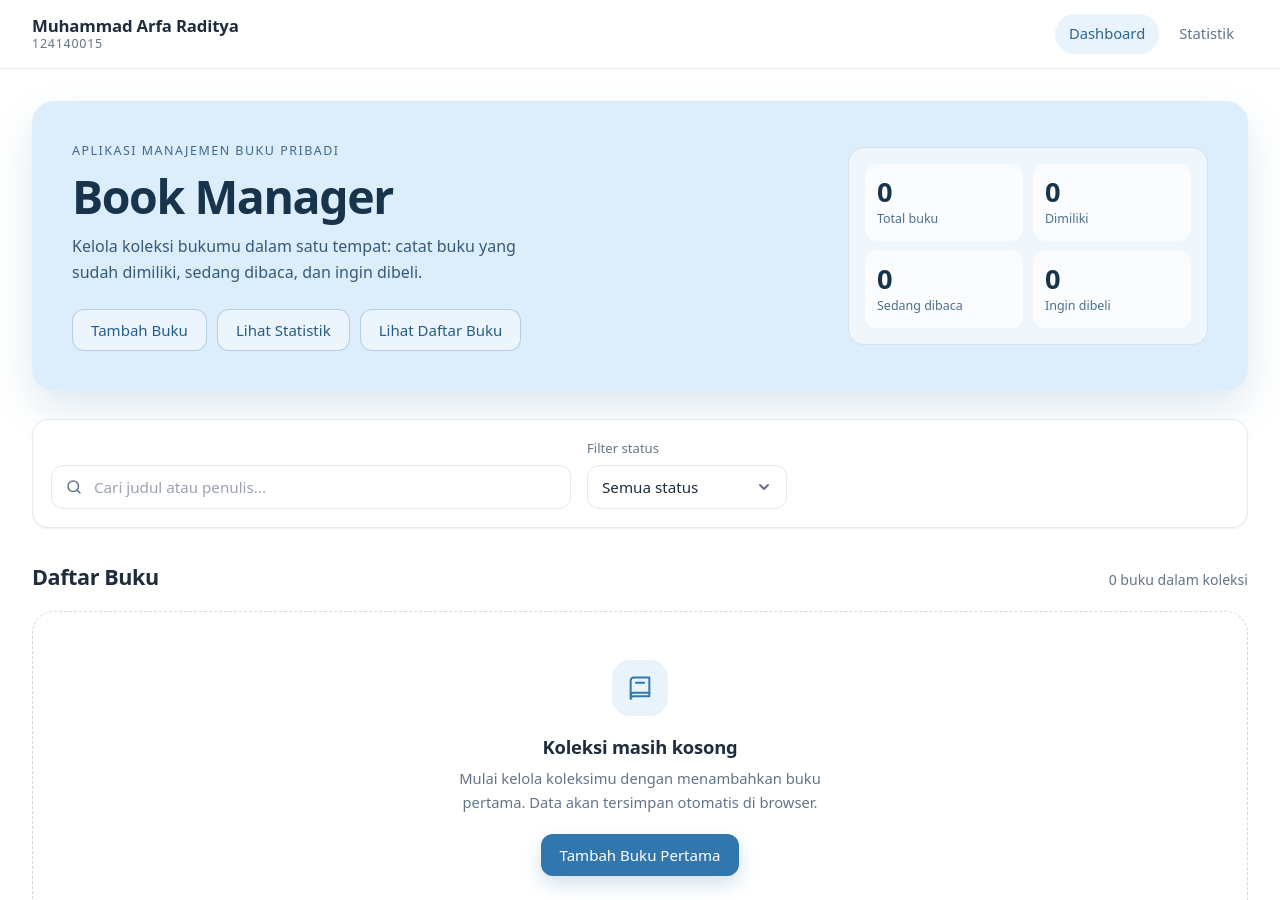
Test case: Dashboard dan manajemen buku › menambahkan buku baru melalui formulir dan menyimpannya ke localStorage
The image size is (1280, 900).
Expected: the heading "Koleksi masih kosong" is shown, [542,732,738,761]
Click the button "Tambah Buku". click: (139, 330)
box: [72,309,207,351]
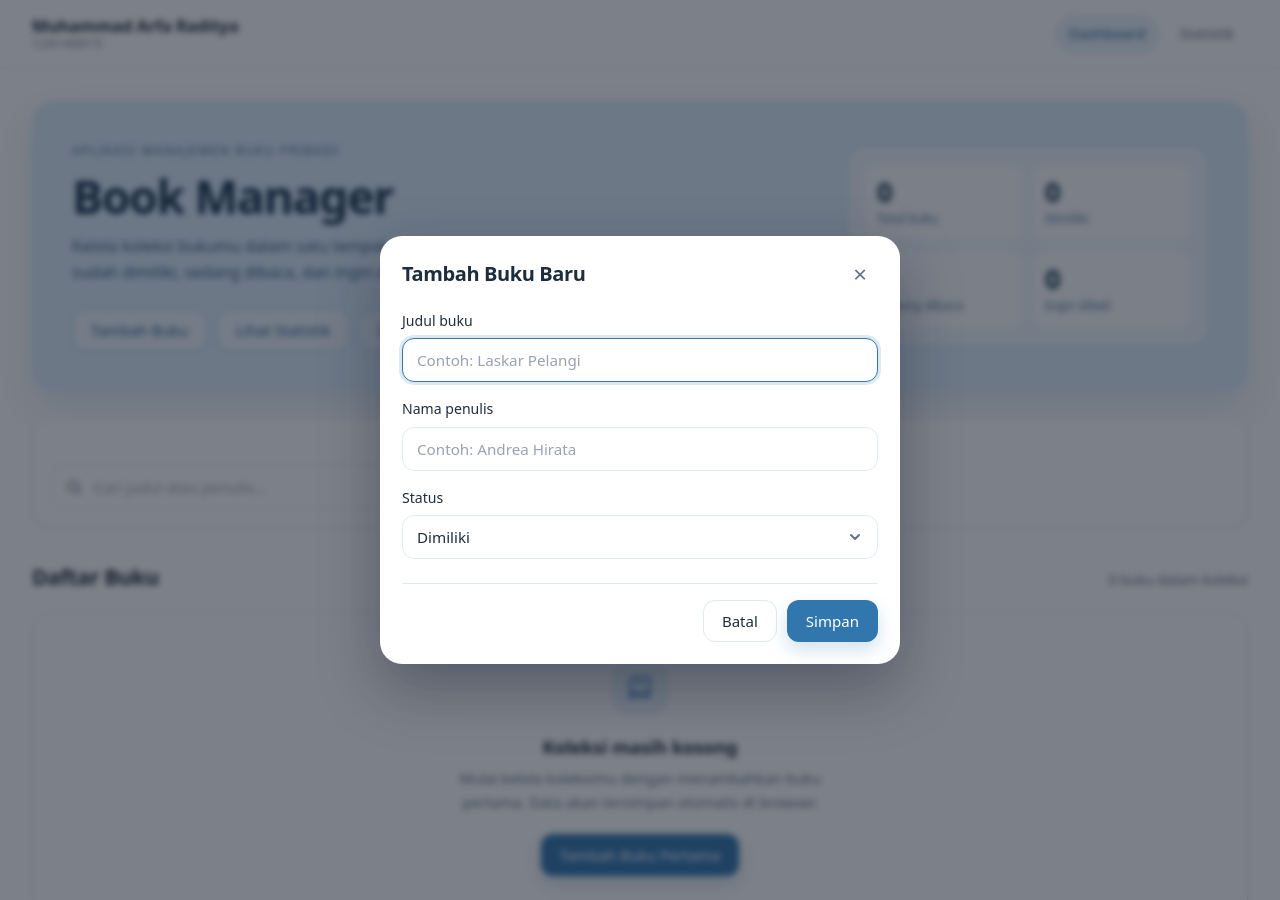
Expected: the dialog is shown, [380,236,900,664]
Type "Laskar Pelangi" into the field labelled "Judul buku". click: (640, 360)
box: [402,338,878,382]
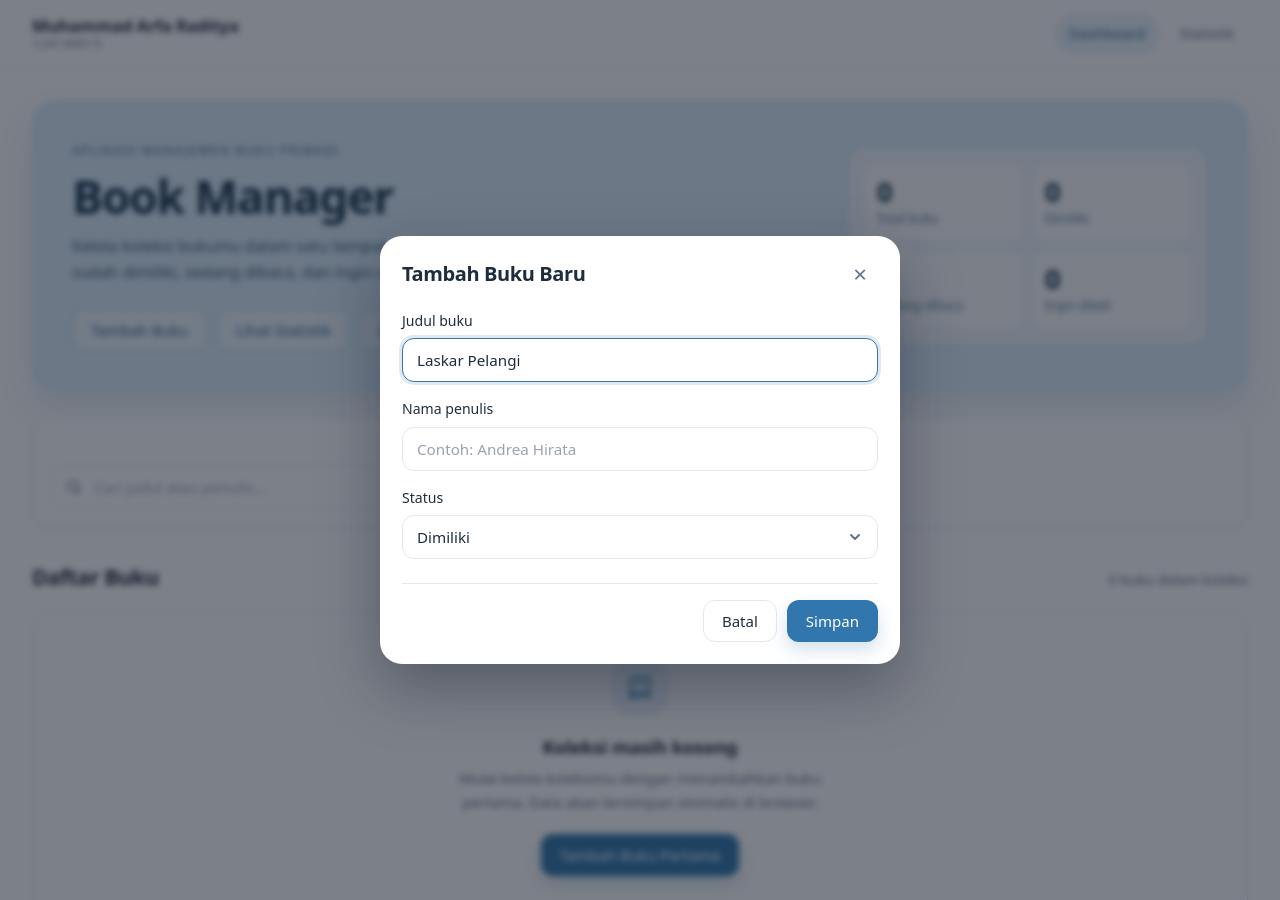
Type "Andrea Hirata" into the field labelled "Nama penulis". click: (640, 449)
box: [402,427,878,471]
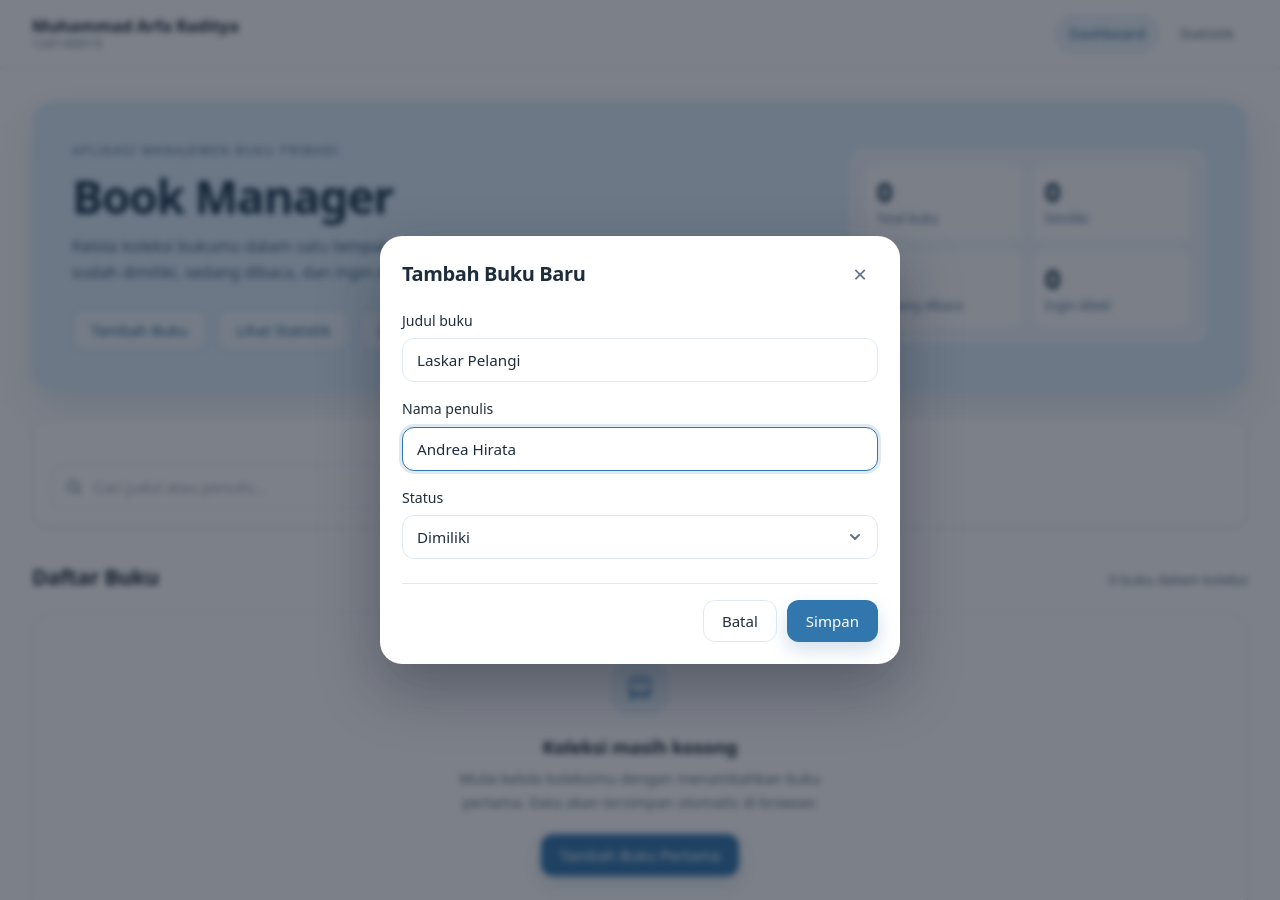
Select "Ingin Dibeli" in the dropdown labelled "Status". click: (640, 537)
box: [402,515,878,559]
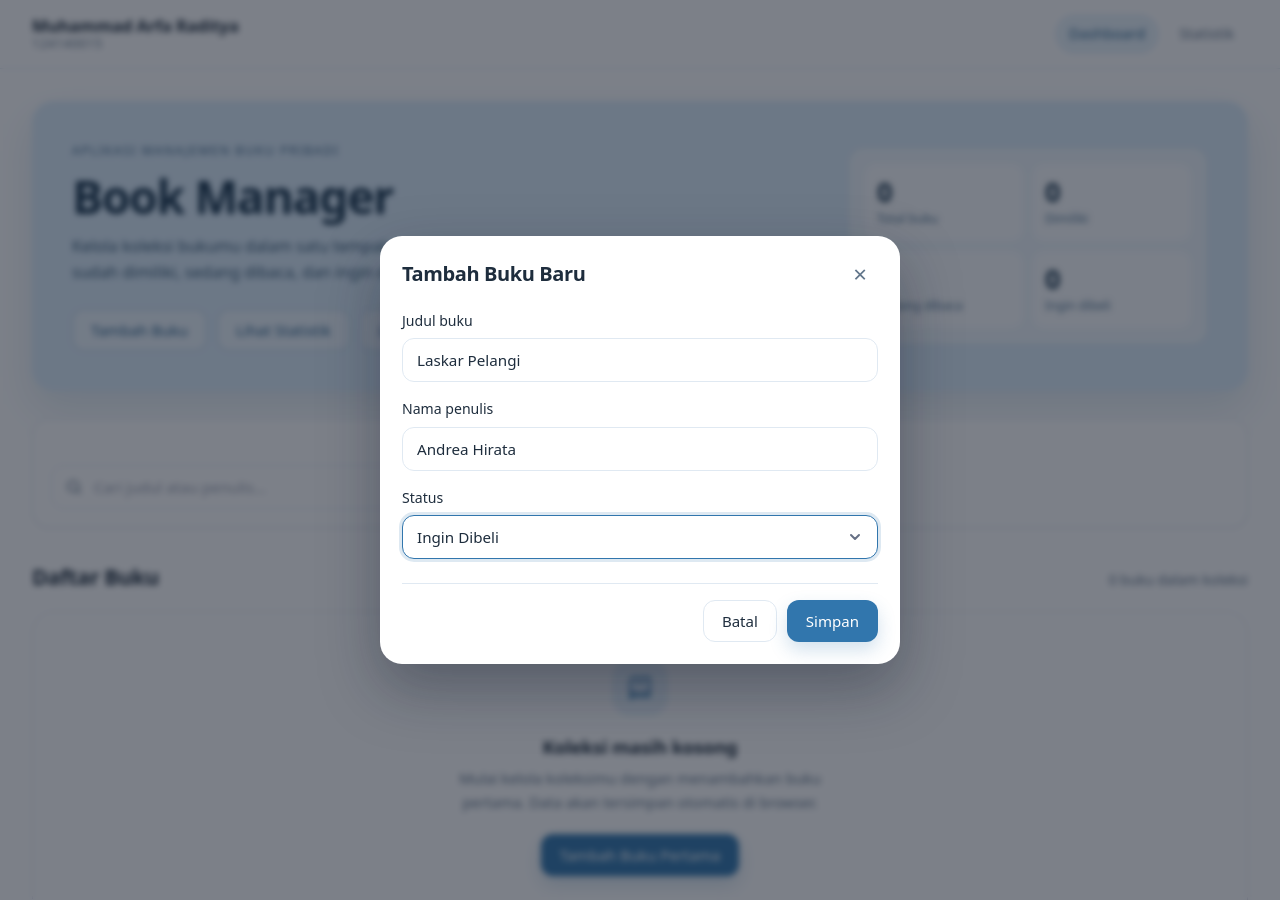
Click the button "Simpan". click: (832, 621)
box: [787,600,878,642]
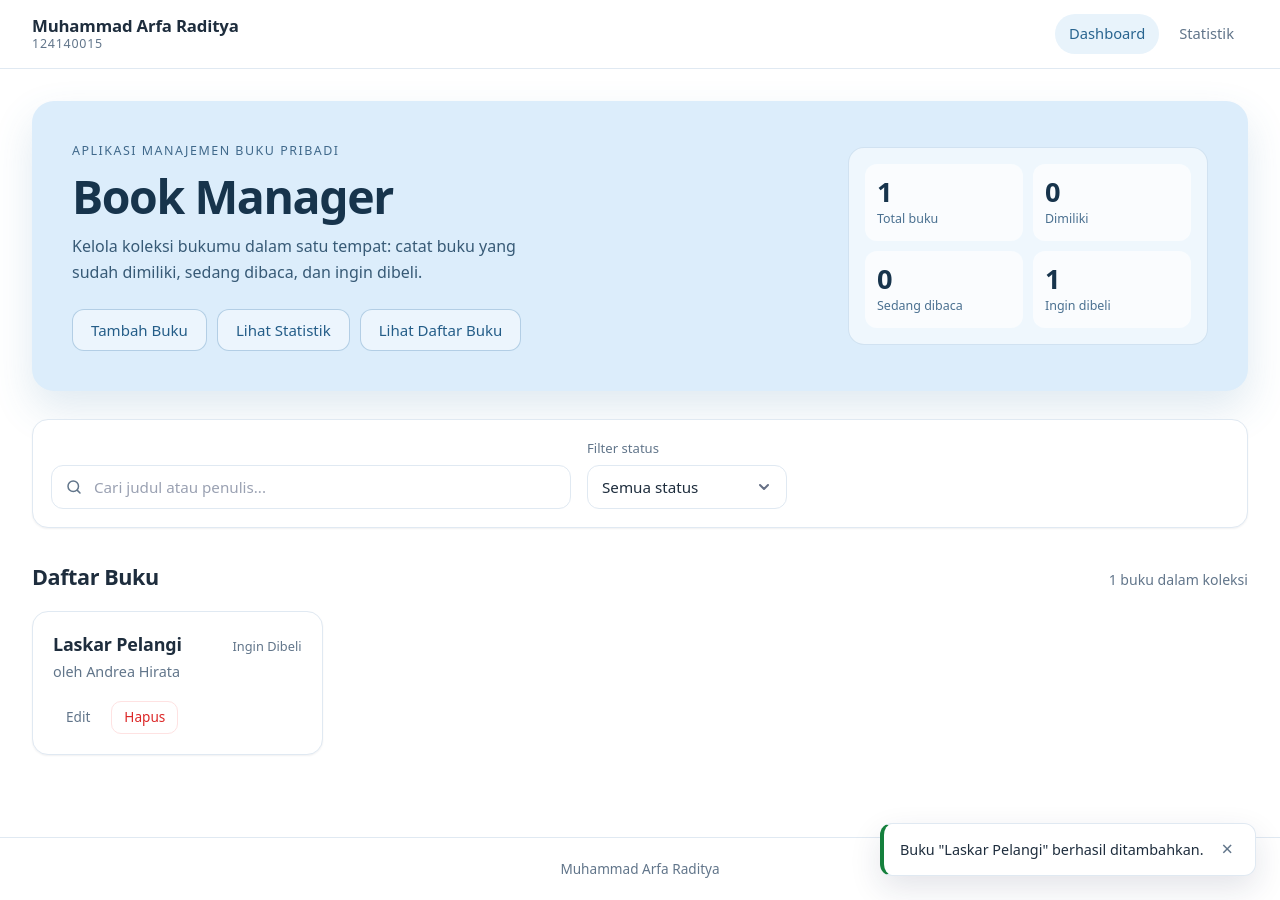
Expected: the dialog is gone
Expected: the element "Laskar Pelangi" is shown, [32,611,322,755]
Expected: the text "oleh Andrea Hirata" is shown, [53,662,180,681]
